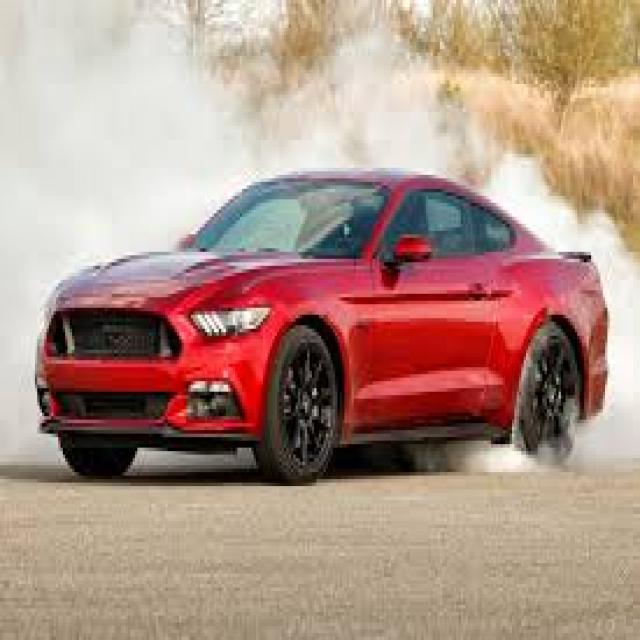Car: (33, 158, 612, 498)
